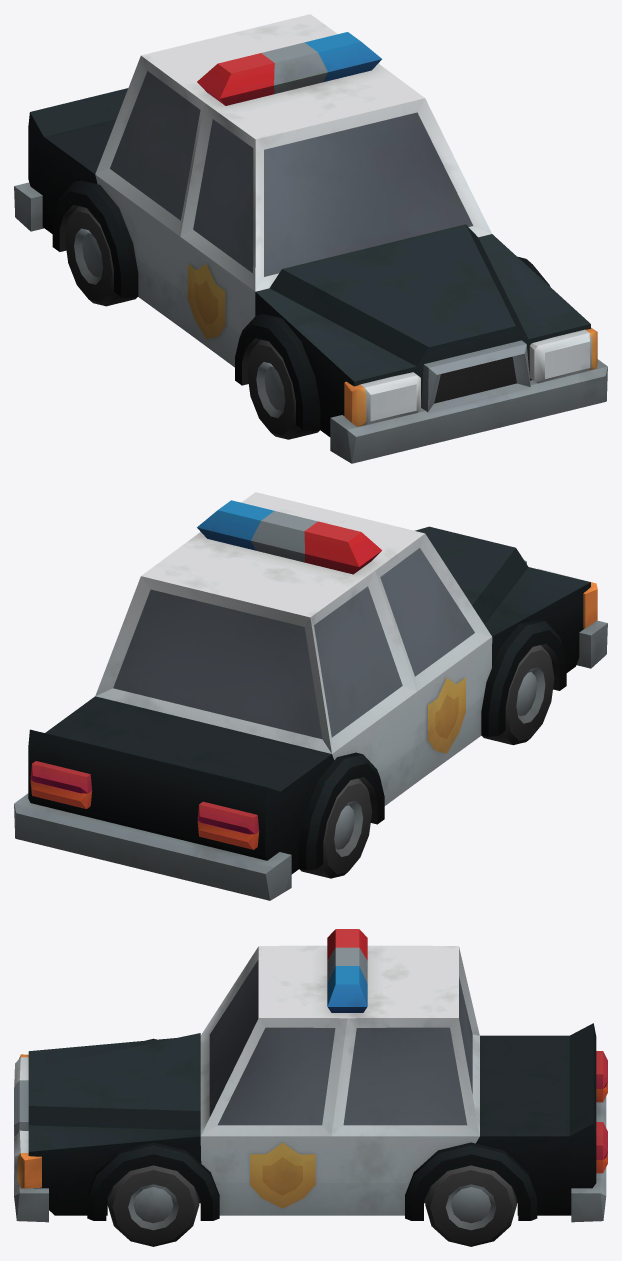
File: car_police.glb
The picture shows the model from 3 angles, top to bottom: view 1: azimuth 30°, elevation 25°; view 2: azimuth 150°, elevation 25°; view 3: azimuth 270°, elevation 25°; orthographic projection. The views are drawn at different scales.
Visible parts, largest first — view 1: car_police, car_police_wheel_rear_right, car_police_wheel_front_right; view 2: car_police, car_police_wheel_front_right, car_police_wheel_rear_right; view 3: car_police, car_police_wheel_front_left, car_police_wheel_rear_left.
Part boxes in pixels (<box>): car_police: <box>14,14,607,463</box>; car_police_wheel_rear_right: <box>65,206,137,306</box>; car_police_wheel_front_right: <box>247,339,319,439</box>; car_police: <box>14,492,607,900</box>; car_police_wheel_front_right: <box>482,645,554,745</box>; car_police_wheel_rear_right: <box>299,778,372,878</box>; car_police: <box>14,929,607,1222</box>; car_police_wheel_front_left: <box>107,1165,199,1246</box>; car_police_wheel_rear_left: <box>425,1165,516,1246</box>.
Size of the model in its own units: 0.419 by 0.4126 by 0.9381.
2 materials, 2 textured.
